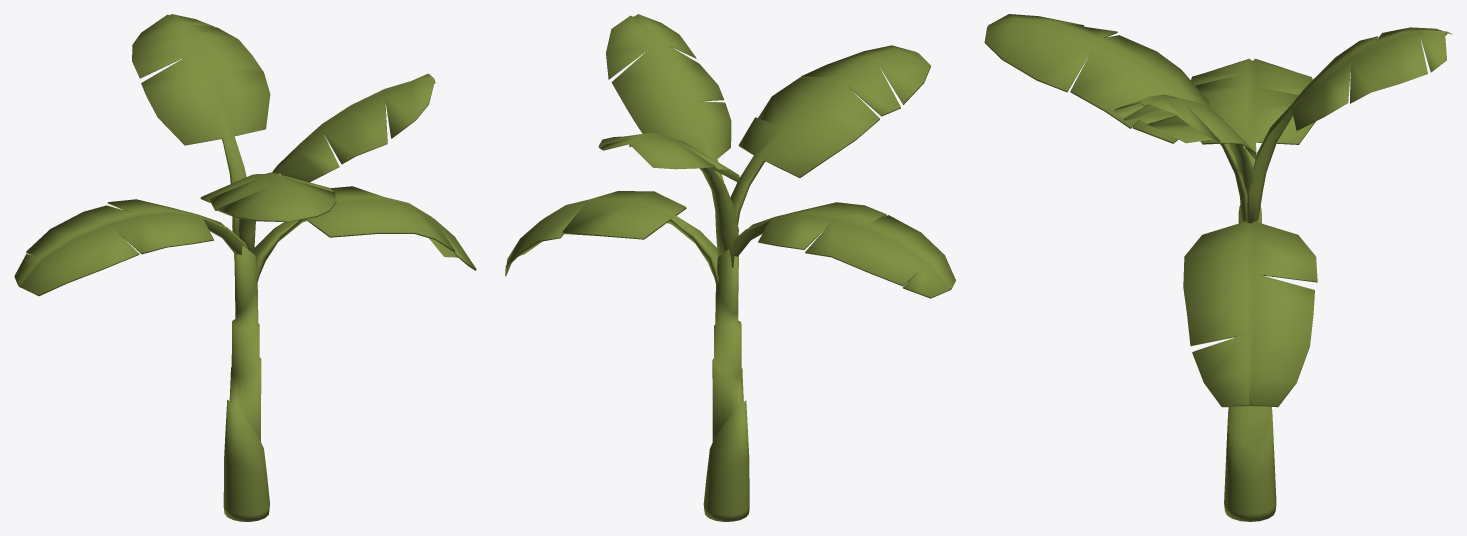
Rendered from Pokok Pisang(Batang Tidak Berkayu).glb.
The picture shows the model from 3 angles, left to right: view 1: azimuth 30°, elevation 25°; view 2: azimuth 150°, elevation 25°; view 3: azimuth 270°, elevation 25°; orthographic projection. The views are drawn at different scales.
Visible parts, largest first — view 1: banana_tree; view 2: banana_tree; view 3: banana_tree.
Boxes of the visible parts, x1,y1,x2,y2 form: banana_tree: [14, 14, 476, 521]; banana_tree: [505, 14, 955, 521]; banana_tree: [984, 14, 1452, 521].
Size of the model in its own units: 2.99 by 2.77 by 2.42.
